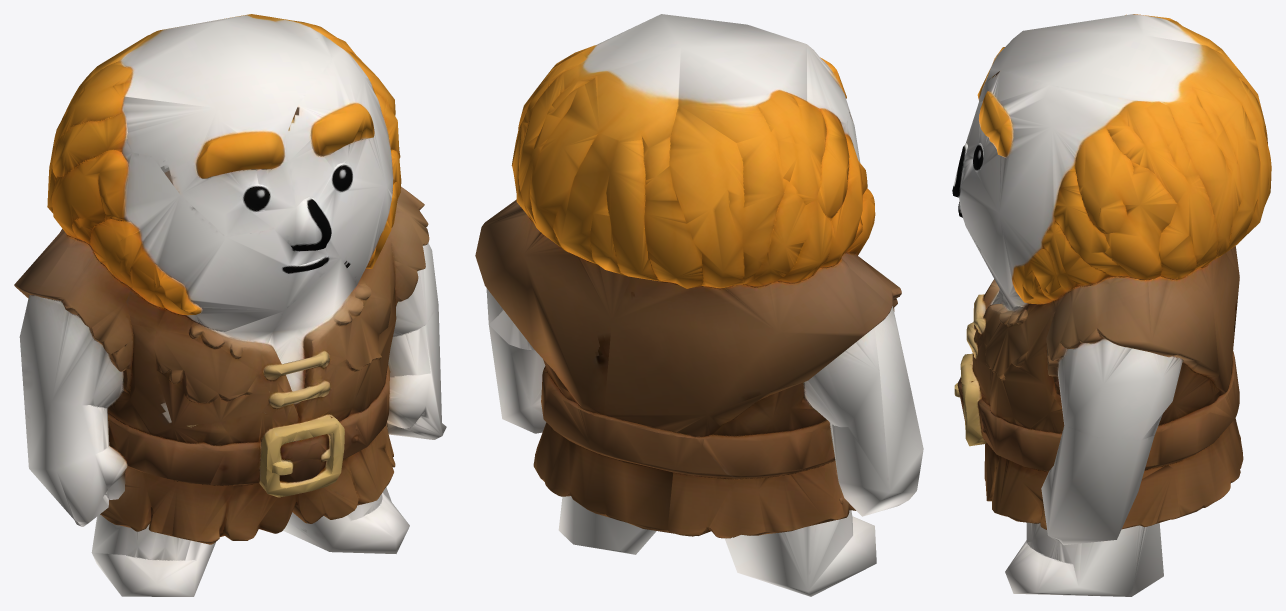
File: giant.glb
3 renders of one model, left to right at view 1: azimuth 30°, elevation 25°; view 2: azimuth 150°, elevation 25°; view 3: azimuth 270°, elevation 25°, orthographic. The views are drawn at different scales.
Parts seen in each view (by area): view 1: unit; view 2: unit; view 3: unit.
Part boxes in pixels (x1,y1,x2,y2): unit: (14, 14, 446, 596); unit: (475, 14, 923, 596); unit: (952, 14, 1271, 596).
Size of the model in its own units: 0.4753 by 0.5898 by 0.3374.
Materials: 1 (1 with a texture image).
